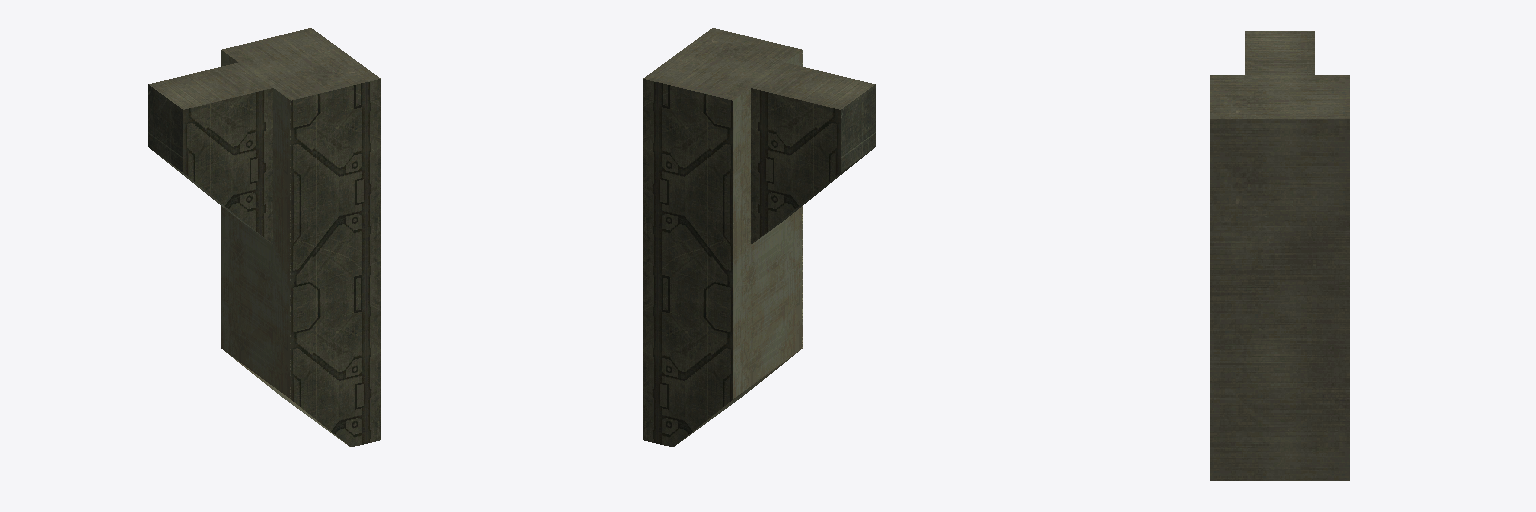
The picture shows the model from 3 angles: view 1: azimuth 30°, elevation 25°; view 2: azimuth 150°, elevation 25°; view 3: azimuth 270°, elevation 25°; orthographic projection.
Visible parts, largest first — view 1: 0_1, 0_0, 0_2, 0_3; view 2: 0_1, 0_0, 0_2, 0_3; view 3: 0_2.
Part boxes in pixels (x1,y1,x2,y2): 0_1: (183,79,380,446); 0_0: (221,50,349,446); 0_2: (149,28,380,109); 0_3: (148,84,268,241); 0_1: (643,79,840,446); 0_0: (674,50,802,446); 0_2: (643,28,874,109); 0_3: (755,84,875,241); 0_2: (1210,31,1349,480).
Bounding box in the file's own units: 1.2 × 2.3 × 0.803.
4 materials, 4 textured.